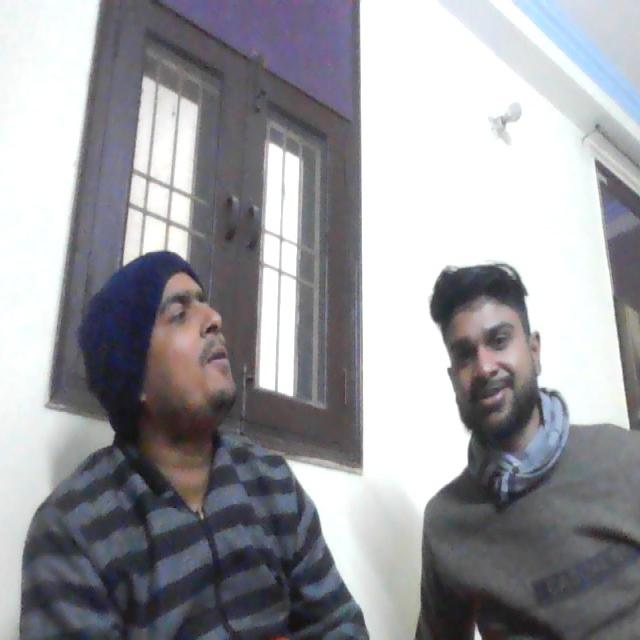real: (122, 192, 250, 433), (439, 247, 543, 442)
